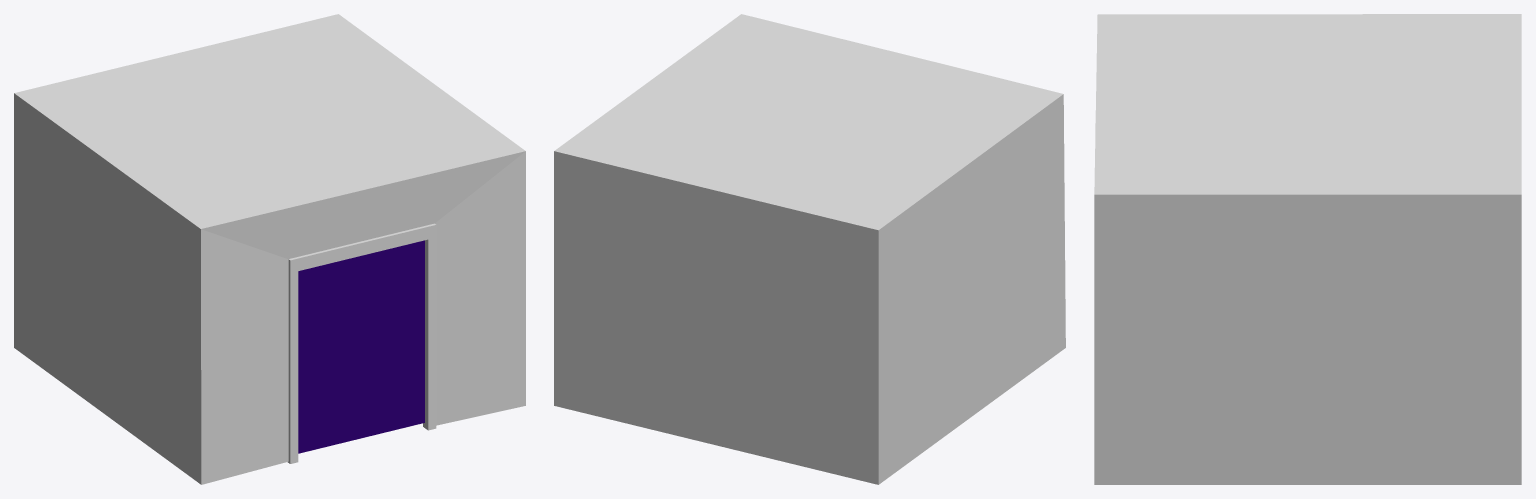
Rendered from artifact.glb.
The picture shows the model from 3 angles, left to right: view 1: azimuth 30°, elevation 25°; view 2: azimuth 150°, elevation 25°; view 3: azimuth 270°, elevation 25°; orthographic projection. The views are drawn at different scales.
Parts seen in each view (by area): view 1: clipCube, insideDoor, door; view 2: clipCube; view 3: clipCube.
Part boxes in pixels (x1,y1,x2,y2): clipCube: (14, 14, 525, 484); insideDoor: (298, 240, 424, 453); door: (287, 223, 436, 463); clipCube: (554, 14, 1065, 484); clipCube: (1094, 14, 1521, 484).
Bounding box in the file's own units: 4 × 3.01 × 4.
